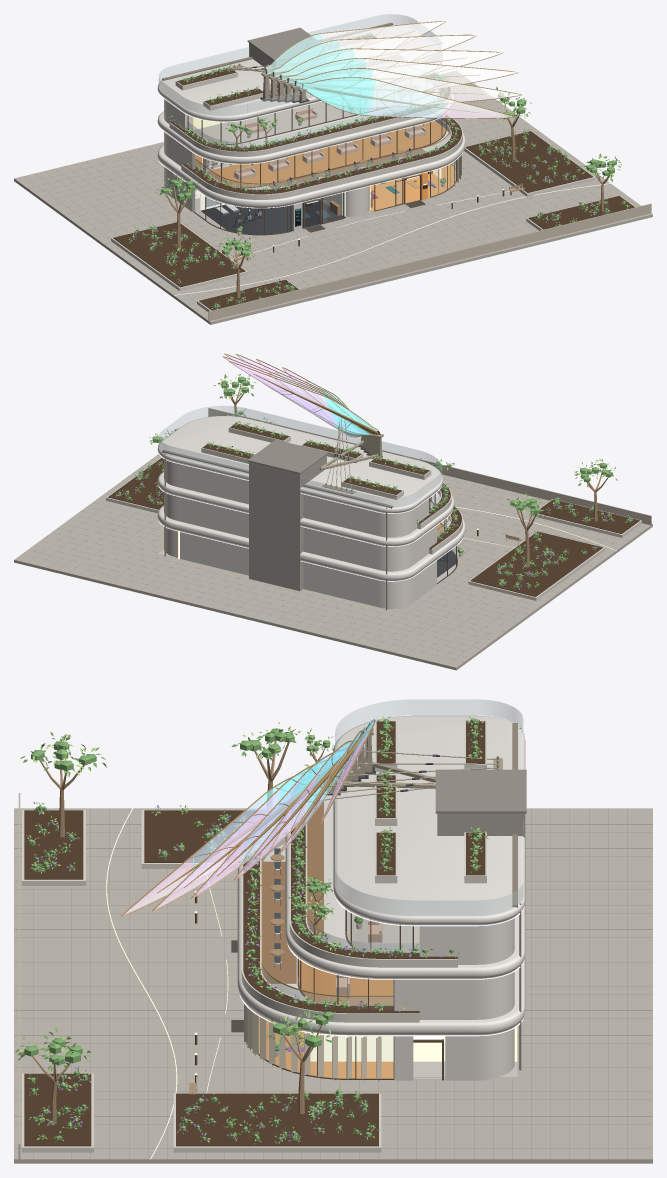
Rendered from q09a-wing-wellness-v2.glb.
The picture shows the model from 3 angles, top to bottom: view 1: azimuth 30°, elevation 25°; view 2: azimuth 150°, elevation 25°; view 3: azimuth 270°, elevation 25°; orthographic projection. The views are drawn at different scales.
Visible parts, largest first — view 1: SITE_PAVING, GARDENS, TIER_1, TIER_2, TIER_3, READING, WING_5, WING_6, WING_4, WING_3, WING_2, GYM_EQUIPMENT (+4 smaller); view 2: SITE_PAVING, TIER_3, GARDENS, TIER_1, ROOMS_CORE, TIER_2, WING_1, WING_2, WING_ROOTS, READING, WING_3, WING_4; view 3: SITE_PAVING, TIER_3, GARDENS, TIER_2, TIER_1, READING, ROOMS_CORE, YOGA_ROOM, WING_5, WING_6, WING_4, WING_3 (+3 smaller).
Part boxes in pixels (left/top/right/bottom): SITE_PAVING: left=14, top=71, right=652, bottom=324; GARDENS: left=159, top=14, right=451, bottom=156; TIER_1: left=157, top=130, right=465, bottom=235; TIER_2: left=157, top=89, right=453, bottom=188; TIER_3: left=157, top=24, right=442, bottom=145; READING: left=181, top=115, right=462, bottom=199; WING_5: left=231, top=64, right=522, bottom=108; WING_6: left=236, top=63, right=514, bottom=118; WING_4: left=225, top=58, right=518, bottom=90; WING_3: left=222, top=48, right=503, bottom=82; WING_2: left=216, top=34, right=477, bottom=79; GYM_EQUIPMENT: left=200, top=192, right=345, bottom=240; SITE_PAVING: left=14, top=374, right=652, bottom=670; TIER_3: left=157, top=416, right=442, bottom=537; GARDENS: left=159, top=406, right=454, bottom=610; TIER_1: left=157, top=505, right=465, bottom=608; ROOMS_CORE: left=158, top=439, right=328, bottom=591; TIER_2: left=157, top=471, right=454, bottom=571; WING_1: left=228, top=361, right=378, bottom=493; WING_2: left=222, top=356, right=374, bottom=492; WING_ROOTS: left=319, top=430, right=383, bottom=470; READING: left=429, top=505, right=462, bottom=554; WING_3: left=224, top=353, right=371, bottom=491; WING_4: left=235, top=354, right=367, bottom=489; SITE_PAVING: left=14, top=722, right=652, bottom=1163; TIER_3: left=333, top=715, right=525, bottom=964; GARDENS: left=288, top=699, right=523, bottom=1070; TIER_2: left=285, top=792, right=525, bottom=1019; TIER_1: left=231, top=844, right=525, bottom=1080; READING: left=241, top=833, right=419, bottom=1022; ROOMS_CORE: left=413, top=769, right=526, bottom=1077; YOGA_ROOM: left=244, top=1004, right=393, bottom=1080; WING_5: left=152, top=760, right=435, bottom=911; WING_6: left=121, top=771, right=425, bottom=916; WING_4: left=190, top=747, right=499, bottom=898; WING_3: left=234, top=738, right=502, bottom=880.
Bounding box in the file's own units: 52.06 × 17.72 × 40.
Materials: 73 (2 with a texture image).
